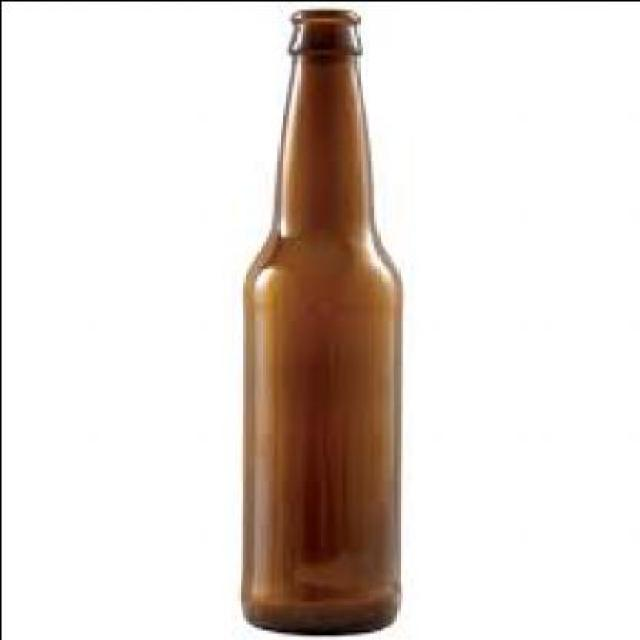GLASS: (239, 6, 404, 632)
